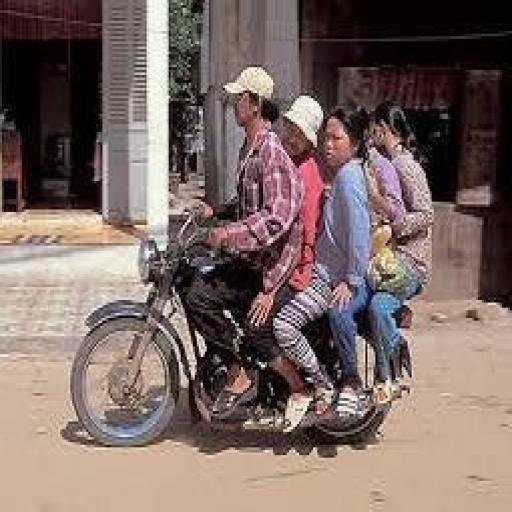no helmet: (215, 60, 284, 165)
triple riding: (70, 56, 428, 460)
